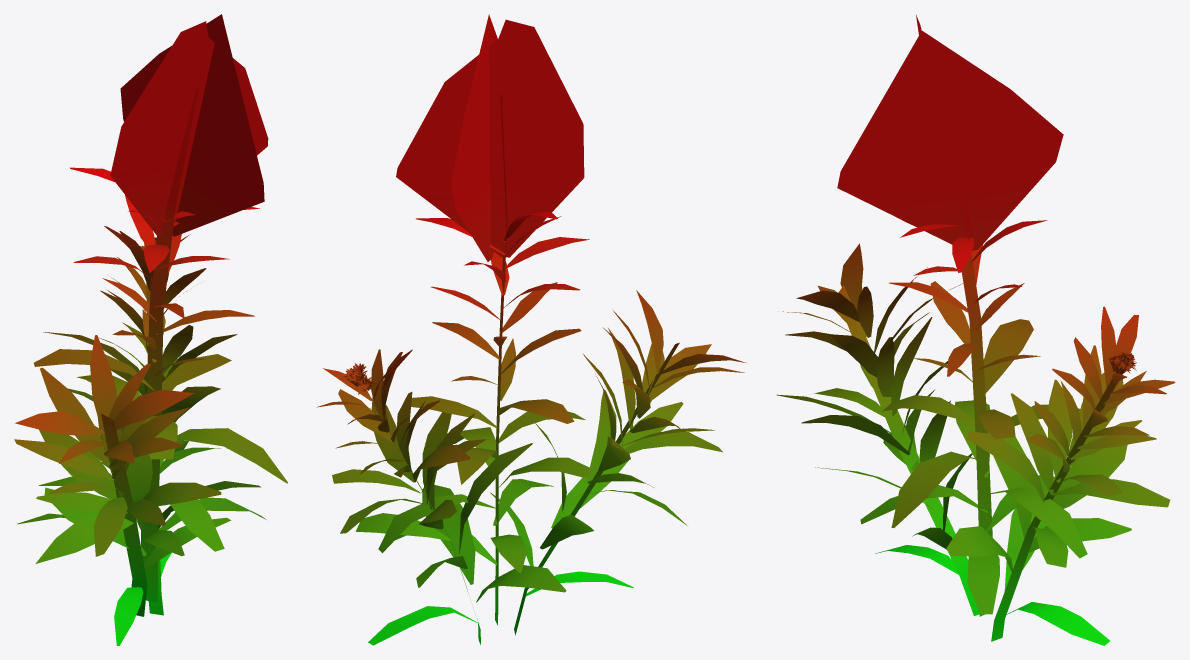
Rendered from Goldenrods_LOD5_Var4.fbx.
The picture shows the model from 3 angles, left to right: view 1: azimuth 30°, elevation 25°; view 2: azimuth 150°, elevation 25°; view 3: azimuth 270°, elevation 25°; orthographic projection. The views are drawn at different scales.
Parts seen in each view (by area): view 1: _ctws_Var4_LOD5; view 2: _ctws_Var4_LOD5; view 3: _ctws_Var4_LOD5.
Boxes of the visible parts, box(x1,y1,x2,y2) form: _ctws_Var4_LOD5: box(14, 14, 287, 645); _ctws_Var4_LOD5: box(317, 14, 745, 645); _ctws_Var4_LOD5: box(777, 15, 1175, 645).
Bounding box in the file's own units: 49.88 × 94.54 × 54.9.
